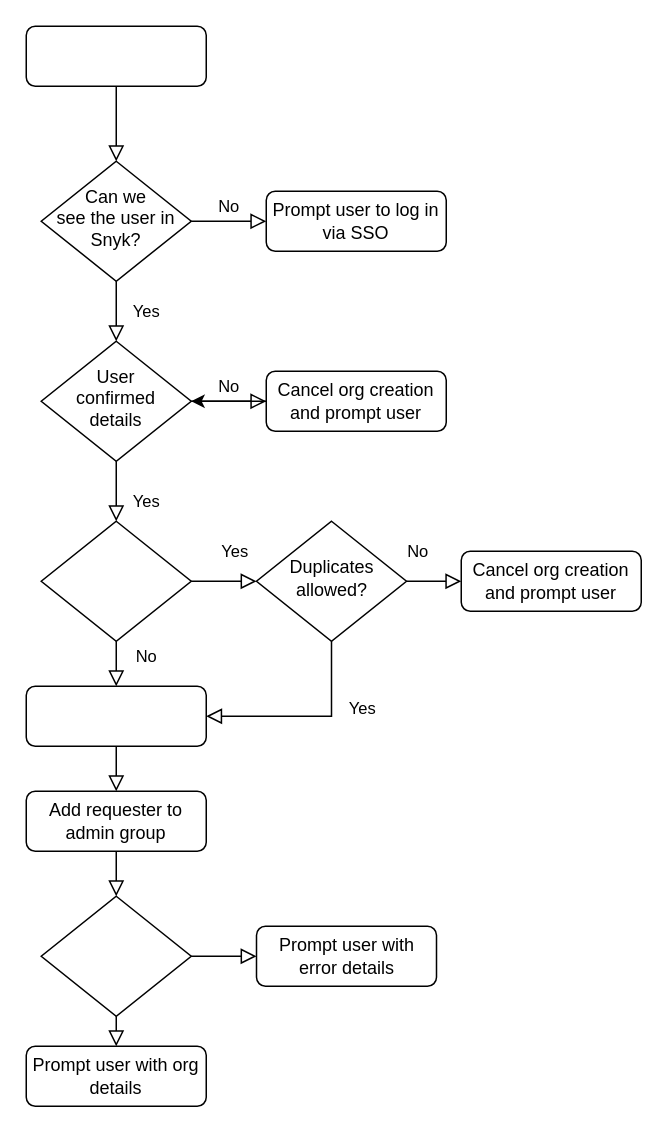
Some shapes in this 668 by 1133 pixel diagram are drawn without their labels. Here are the shapes that lost their labels. From the top down, the centre of each, then its label:
point 115,55: User requests an organisation
point 115,580: Org already exists?
point 115,715: Create organisation
point 115,955: Creation successful?
